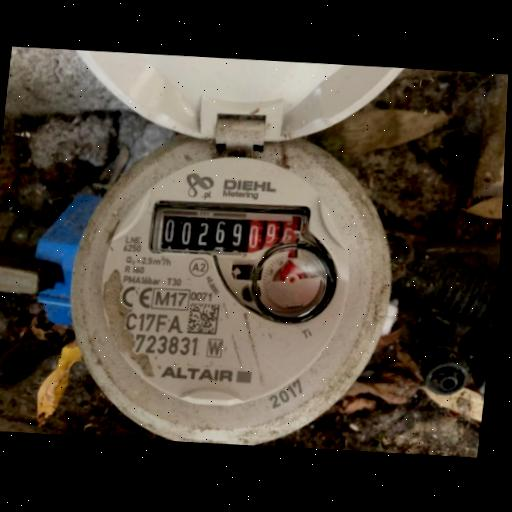0: (160, 214, 182, 249), (177, 216, 199, 250), (246, 219, 265, 254)
2: (193, 217, 212, 251)
6: (209, 217, 232, 252), (277, 216, 301, 247)
9: (227, 219, 248, 253), (261, 220, 283, 249)
border_water_meter_number: (147, 194, 312, 263)
